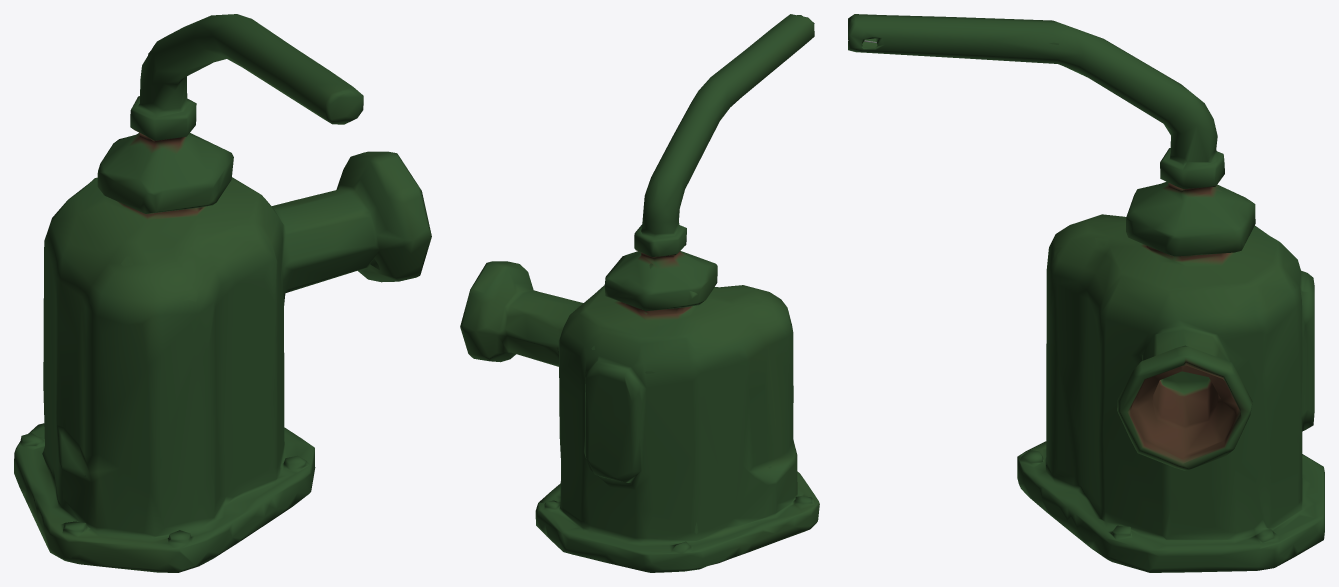
The model's file is gen3d-water-pump-lod0.glb.
The picture shows the model from 3 angles, left to right: view 1: azimuth 30°, elevation 25°; view 2: azimuth 150°, elevation 25°; view 3: azimuth 270°, elevation 25°; orthographic projection. The views are drawn at different scales.
Parts seen in each view (by area): view 1: part_0; view 2: part_0; view 3: part_0.
Boxes of the visible parts, x1,y1,x2,y2 form: part_0: [14, 14, 431, 572]; part_0: [460, 14, 819, 572]; part_0: [848, 14, 1324, 572].
Bounding box in the file's own units: 0.7596 × 0.9999 × 0.8681.
